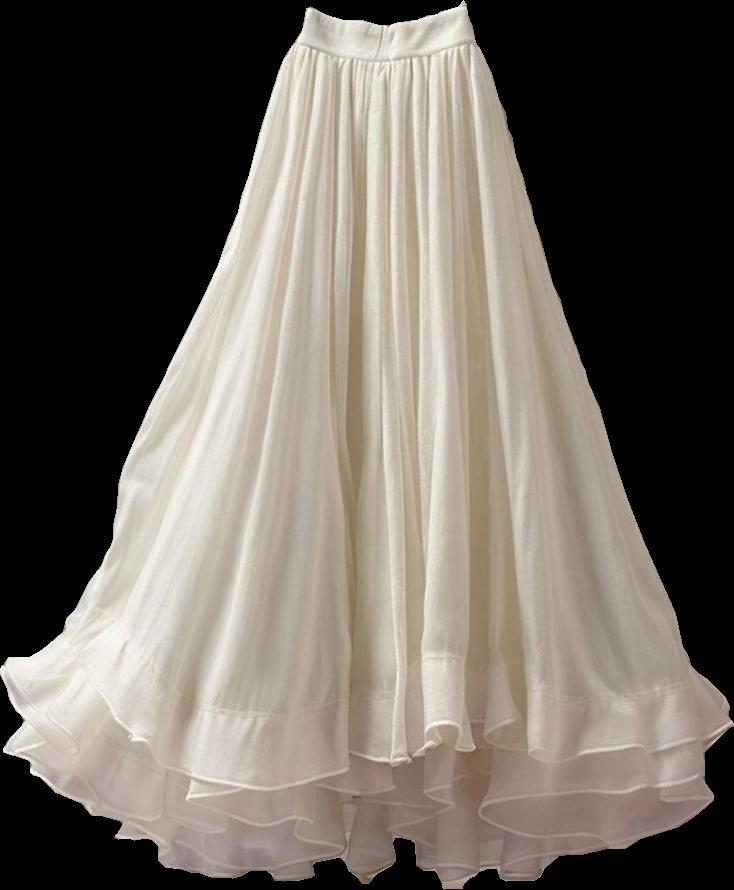Hemline: (5, 674, 711, 859), (60, 633, 733, 792), (5, 747, 713, 889)
Waistline: (289, 34, 481, 66), (305, 0, 469, 29)
